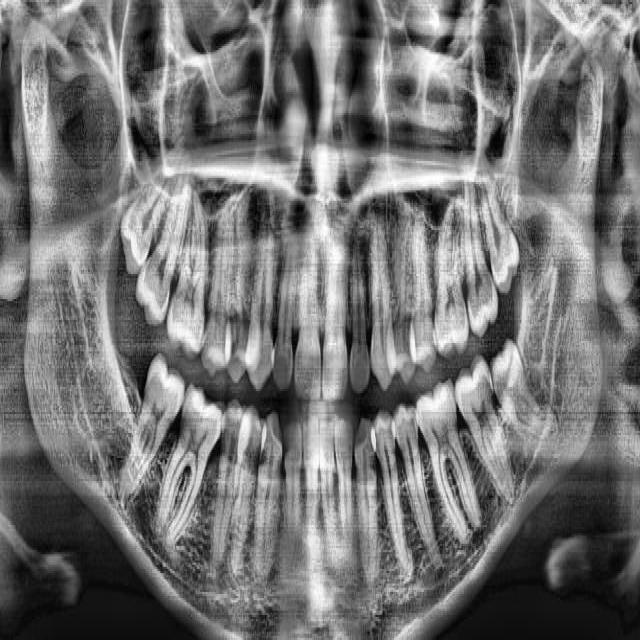karies: (230, 407, 262, 462)
